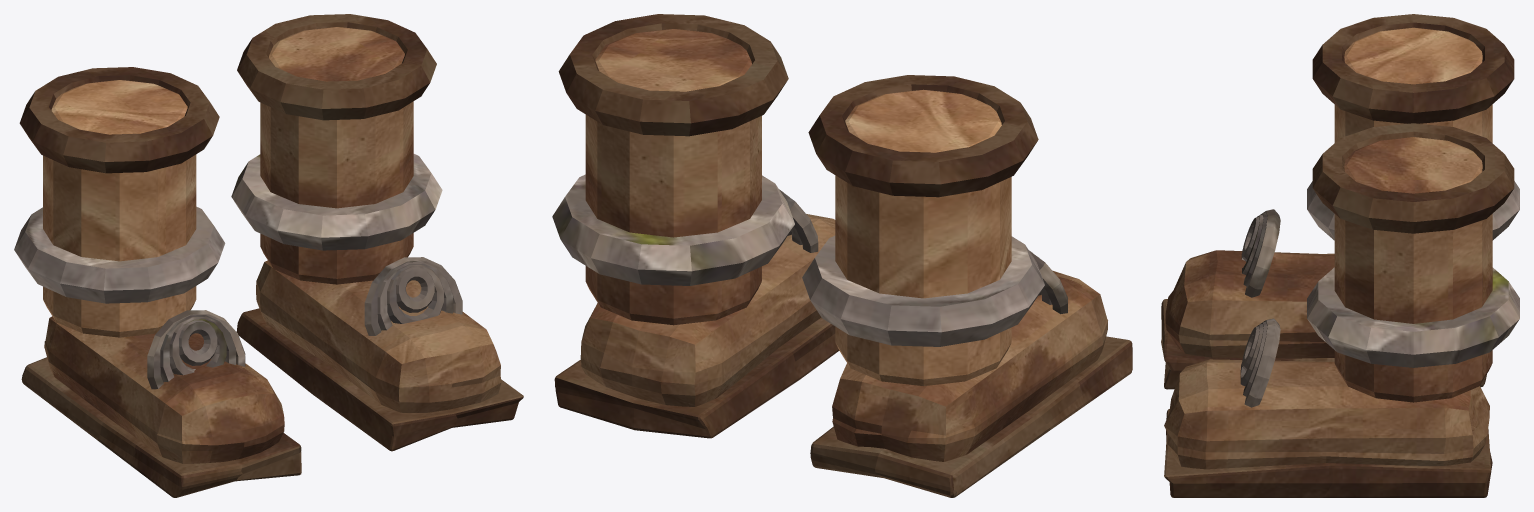
File: boots_shell.glb
The picture shows the model from 3 angles, left to right: view 1: azimuth 30°, elevation 25°; view 2: azimuth 150°, elevation 25°; view 3: azimuth 270°, elevation 25°; orthographic projection. The views are drawn at different scales.
Parts seen in each view (by area): view 1: model; view 2: model; view 3: model.
Part boxes in pixels (<box>): model: <box>14,14,523,497</box>; model: <box>552,14,1132,497</box>; model: <box>1161,14,1519,497</box>.
Bounding box in the file's own units: 0.332 × 0.2355 × 0.25.
6 materials, 6 textured.
